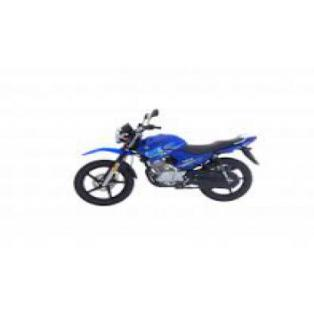Motocicleta: (73, 89, 263, 216)
